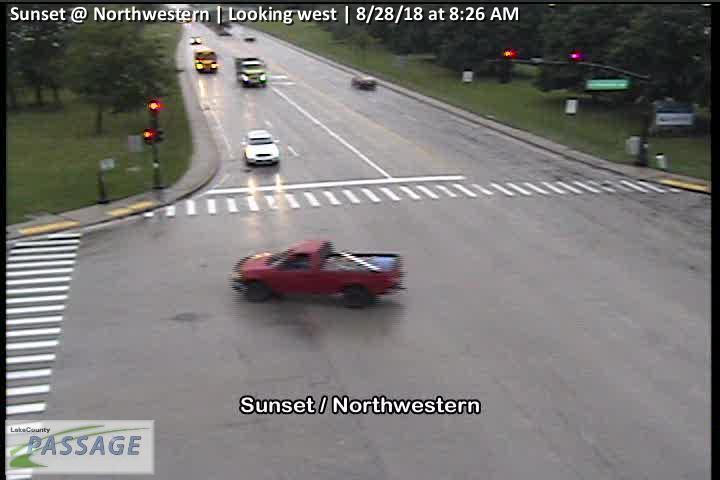SUV: (195, 47, 217, 72)
Sedan: (241, 129, 280, 164), (352, 74, 376, 89), (190, 35, 201, 43), (245, 35, 256, 41)
Truck: (232, 240, 400, 308), (235, 56, 266, 87)
